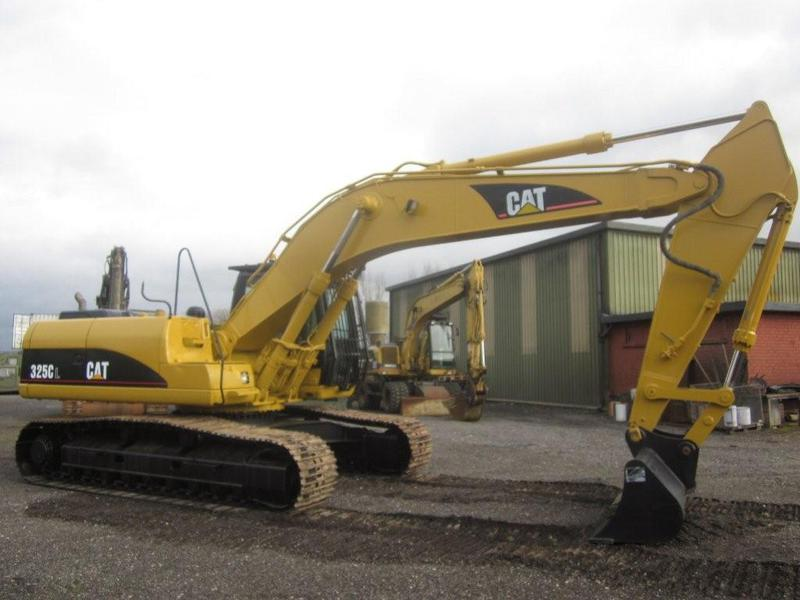shovel: (15, 94, 800, 552)
